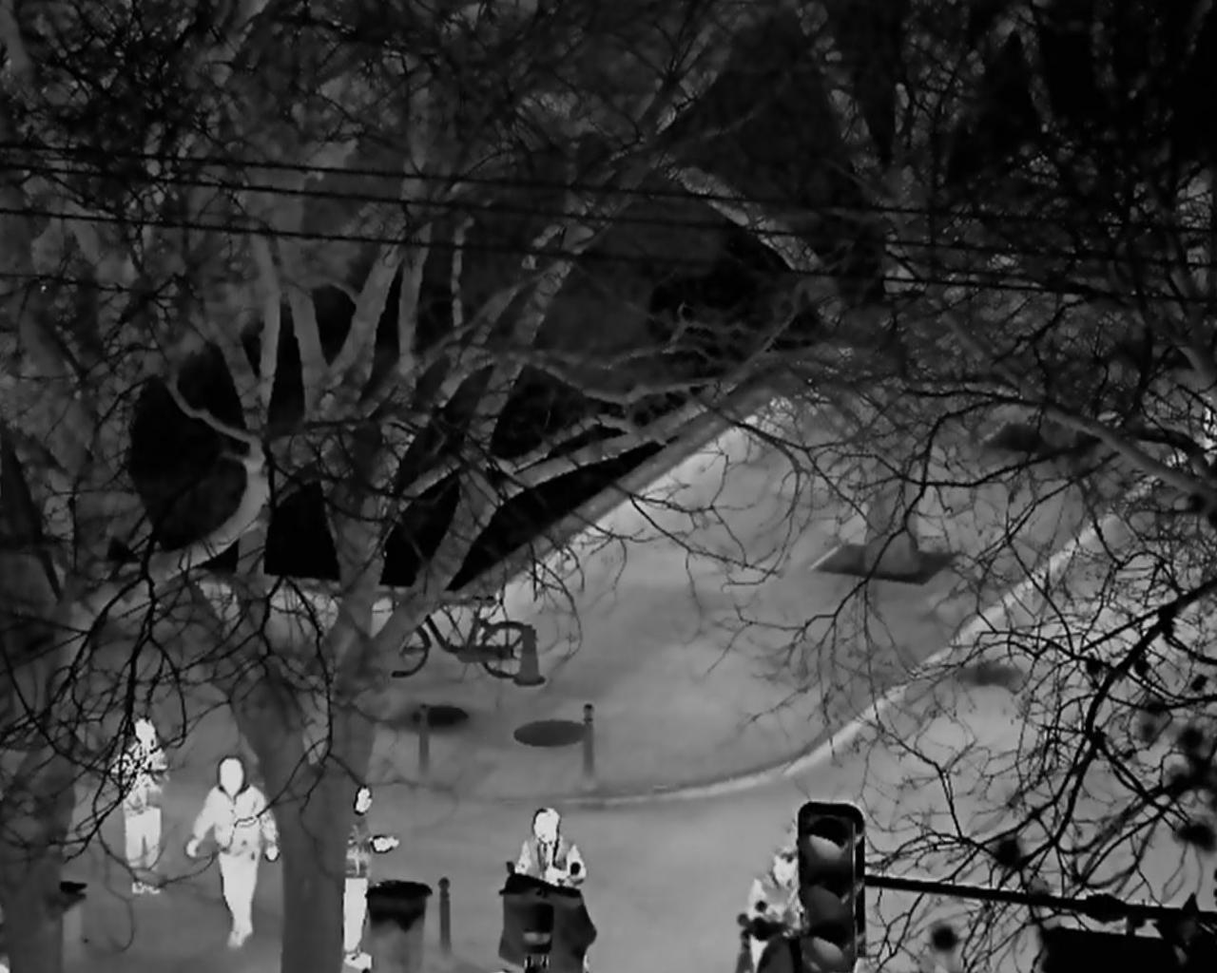person: (185, 755, 279, 952), (345, 784, 401, 973), (110, 715, 164, 899), (745, 847, 804, 973), (516, 808, 589, 889)
